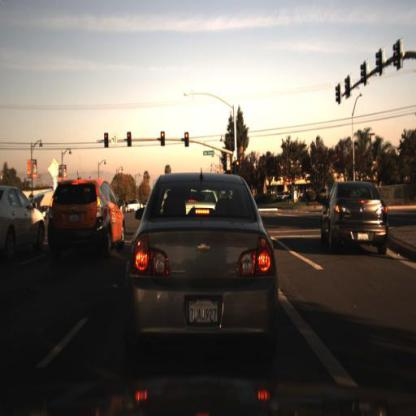car: (128, 172, 279, 352), (320, 180, 392, 266), (47, 178, 123, 258), (1, 186, 44, 256), (126, 198, 142, 215)
trafficLight-Red: (184, 130, 193, 149), (235, 154, 243, 169), (103, 131, 111, 143), (126, 131, 134, 143), (161, 132, 166, 150)
trafficLight-RedLeft: (127, 129, 135, 150), (105, 133, 112, 153)
